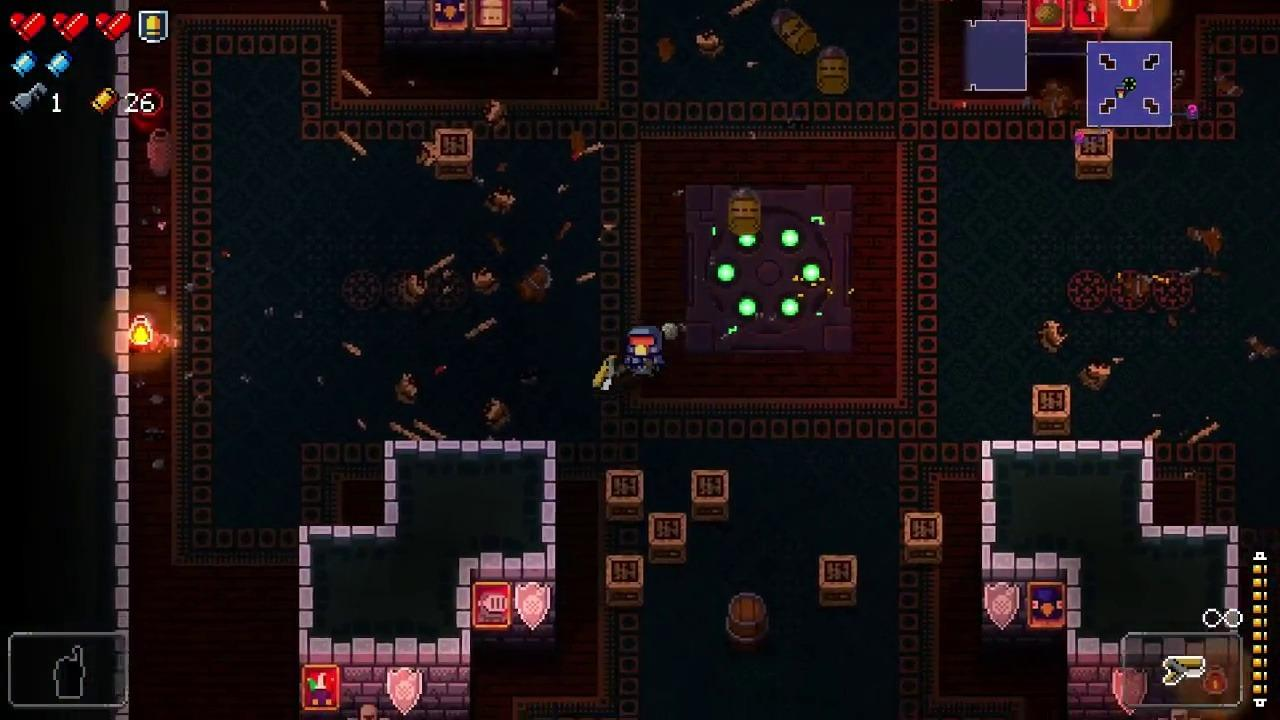dead_bullet_kin: (769, 5, 821, 56), (816, 47, 851, 94), (729, 184, 760, 235)
player: (625, 326, 666, 379)
teleporter: (680, 181, 854, 358)
